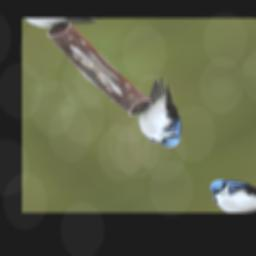Swallow: (113, 75, 212, 155)
